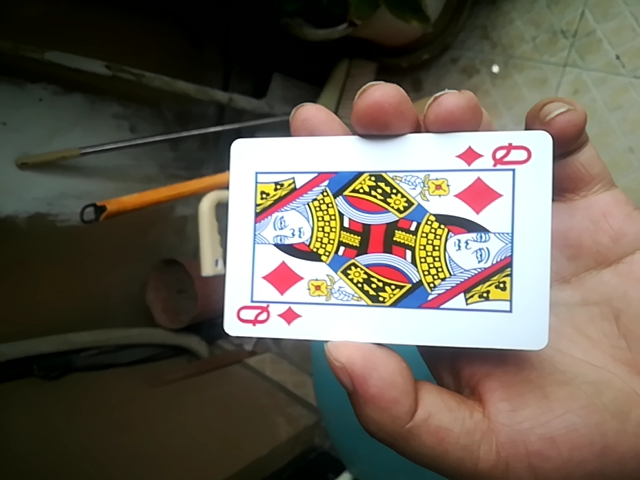fk q: (226, 131, 559, 353)
